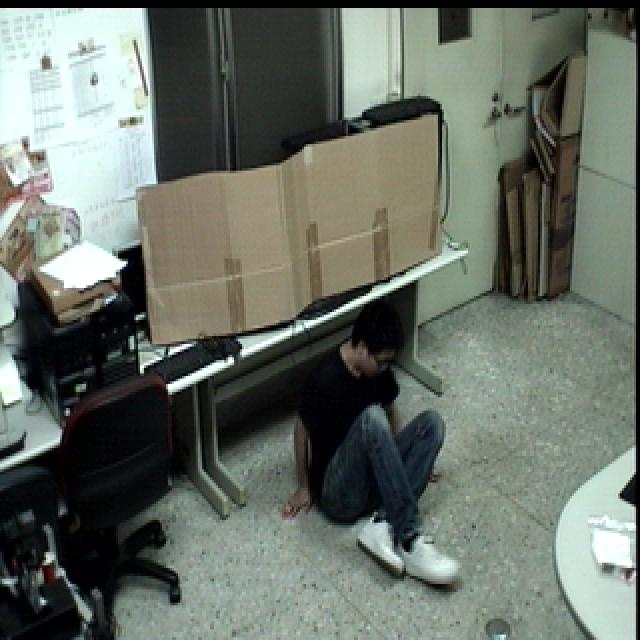sit: (280, 294, 471, 598)
